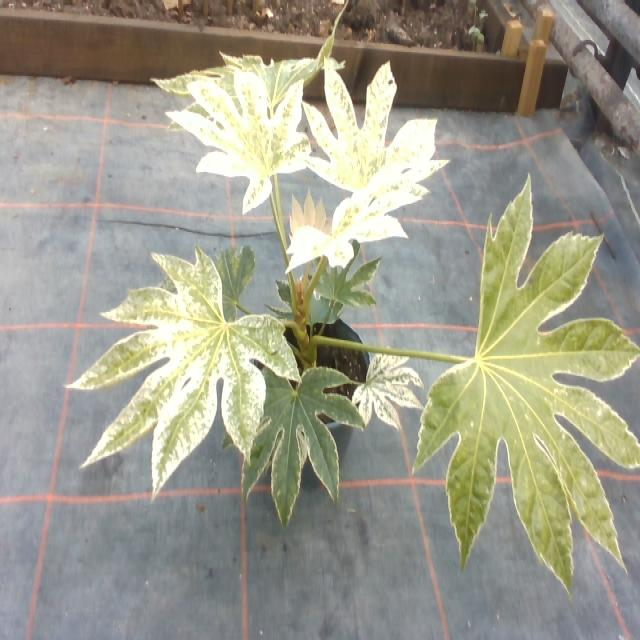Fatsia-japonica: (421, 194, 639, 590), (80, 240, 268, 497), (238, 341, 364, 525), (157, 63, 310, 211), (294, 52, 434, 213), (282, 156, 450, 287), (150, 32, 351, 130), (136, 222, 256, 332), (293, 227, 388, 310), (349, 336, 424, 429), (263, 272, 355, 326)
